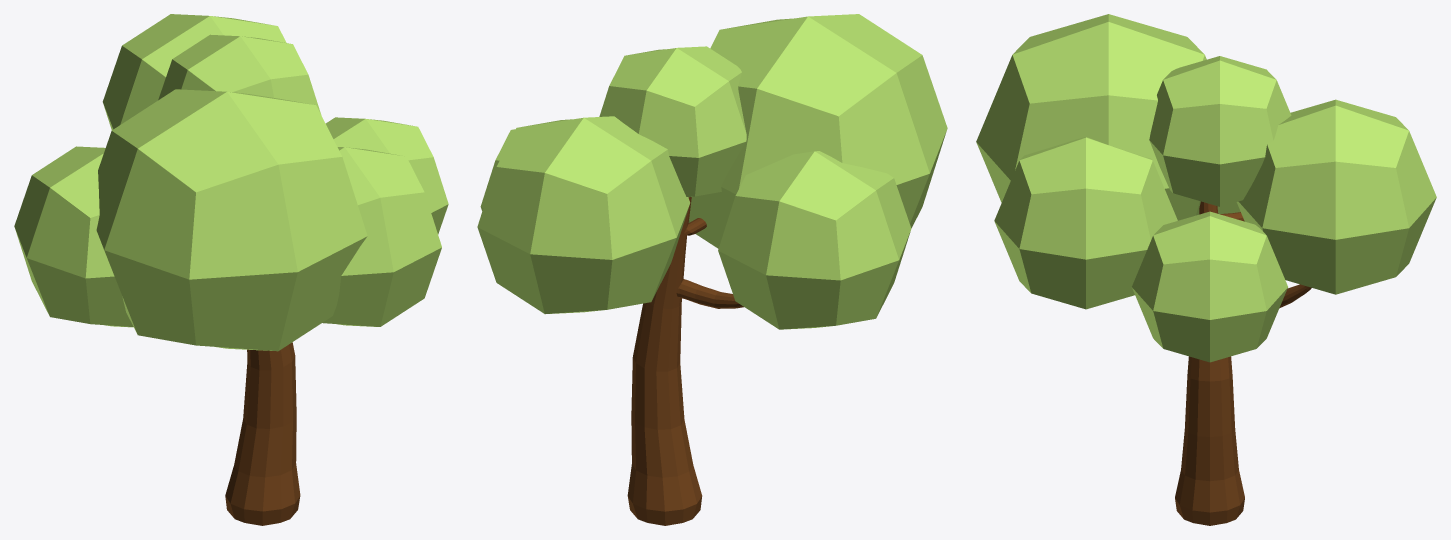
File: Tree1.fbx
3 views of the same model, side by side, from view 1: azimuth 30°, elevation 25°; view 2: azimuth 150°, elevation 25°; view 3: azimuth 270°, elevation 25° (orthographic). The views are drawn at different scales.
Visible parts, largest first — view 1: Cube; view 2: Cube; view 3: Cube.
Part boxes in pixels (x1,y1,x2,y2): Cube: (14,14,448,525); Cube: (477,14,947,525); Cube: (976,14,1436,525).
Size of the model in its own units: 754 by 855 by 783.
